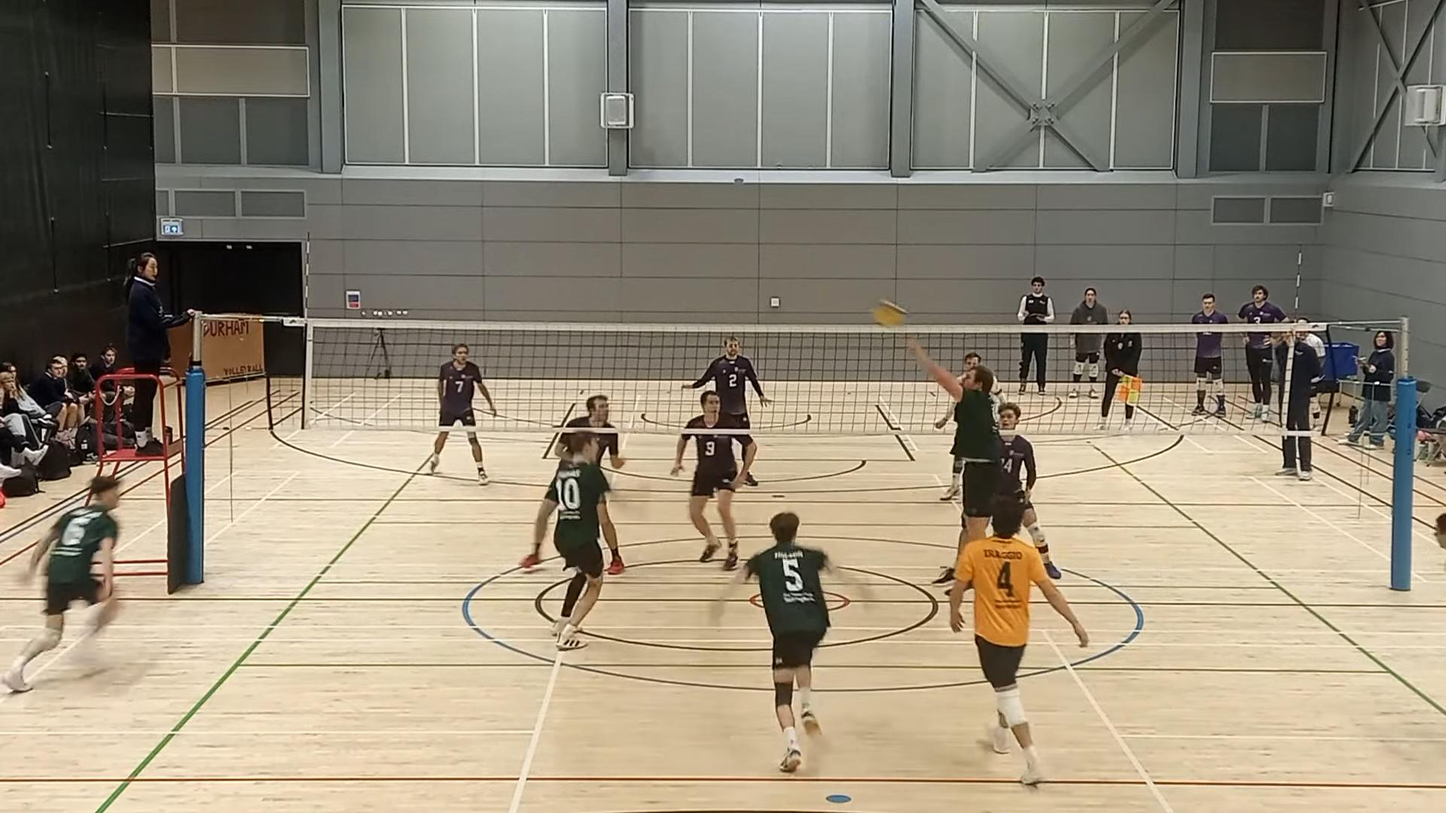alzata: (897, 343, 1010, 579)
